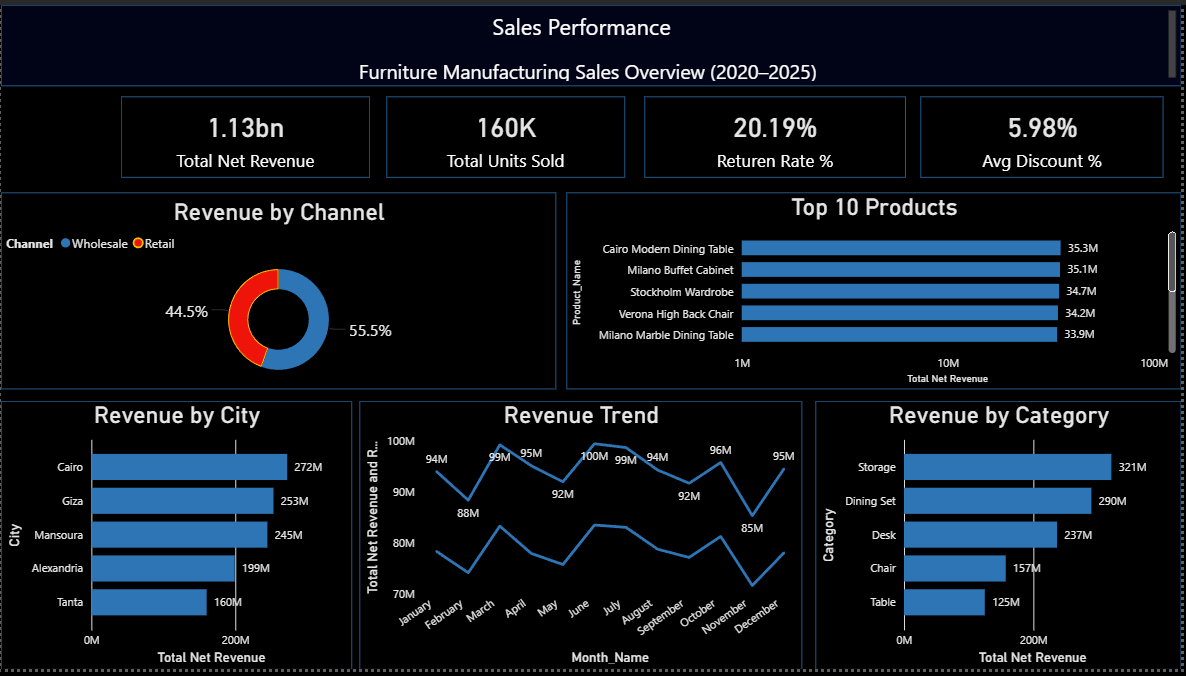

What the dashboard file says about the page in this screenshot:
{"tool":"powerbi","page":{"name":"Sales Performance","canvas":[1280,720],"ordinal":1},"visuals":[{"type":"textbox","box":[0,0,1280.1,87.8],"z":0},{"type":"card","fields":{"Values":["Fact_Sales.Total Net Revenue"]},"box":[130.1,99.2,270,87.8],"z":1000},{"type":"card","fields":{"Values":["Fact_Sales.Total Units Sold"]},"box":[418,99.2,258.6,87.8],"z":2000},{"type":"card","fields":{"Values":["Fact_Sales.Returen Rate %"]},"box":[697.8,99.2,283,87.8],"z":3000},{"type":"card","fields":{"Values":["Fact_Sales.Avg Discount %"]},"box":[997.1,99.2,263.5,87.8],"z":4000},{"type":"lineChart","title":" Revenue Trend","fields":{"Category":["Dim_Date.Month_Name"],"Y":["Fact_Sales.Total Net Revenue","Fact_Sales.Revenue LY"]},"box":[388.7,429.4,479.8,291.2],"z":5000},{"type":"barChart","title":" Revenue by Category","fields":{"Category":["Dim_Products.Category"],"Y":["Fact_Sales.Total Net Revenue"]},"box":[883.2,429.4,396.9,291.2],"z":6000},{"type":"donutChart","title":" Revenue by Channel","fields":{"Category":["Dim_Customers.Channel"],"Y":["Fact_Sales.Total Net Revenue"]},"box":[0,203.3,601.8,213.1],"z":7000},{"type":"barChart","title":"Top 10 Products","fields":{"Category":["Dim_Products.Product_Name"],"Y":["Fact_Sales.Total Net Revenue"]},"box":[613.2,203.3,666.9,213.1],"z":8000},{"type":"clusteredBarChart","title":" Revenue by City","fields":{"Category":["Dim_Customers.City"],"Y":["Fact_Sales.Total Net Revenue"]},"box":[0,429.4,380.6,291.2],"z":9000}]}

Visuals, with their boxes in screenshot pixels (x1, y1, x2, y2), scaled from the page's 1280x720 canvas onto the 1186x676 screenshot:
textbox: [0, 0, 1185, 82]
card - Fact_Sales.Total Net Revenue: [121, 93, 371, 176]
card - Fact_Sales.Total Units Sold: [387, 93, 627, 176]
card - Fact_Sales.Returen Rate %: [647, 93, 909, 176]
card - Fact_Sales.Avg Discount %: [924, 93, 1168, 176]
" Revenue Trend" lineChart: [360, 403, 805, 675]
" Revenue by Category" barChart: [818, 403, 1185, 675]
" Revenue by Channel" donutChart: [0, 191, 558, 391]
"Top 10 Products" barChart: [568, 191, 1185, 391]
" Revenue by City" clusteredBarChart: [0, 403, 353, 675]
